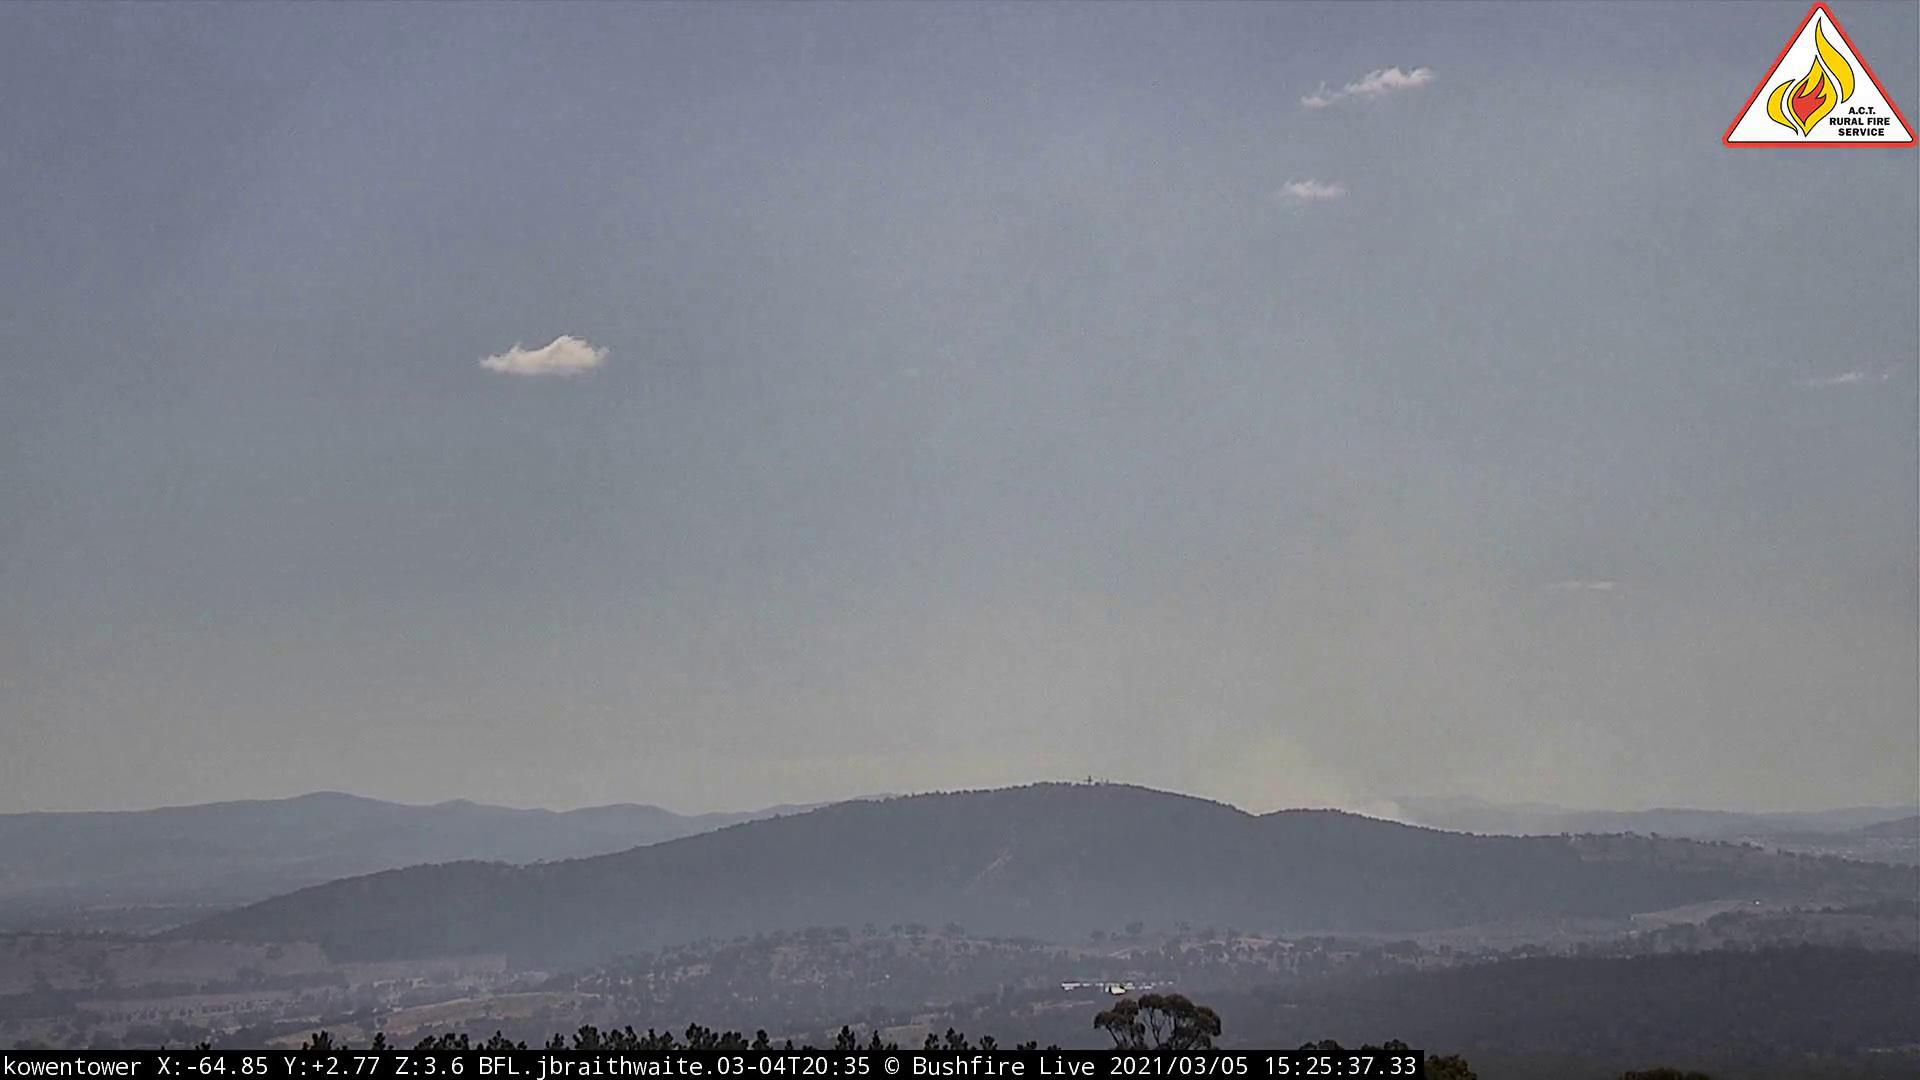instance_salient_object: (615, 434, 1404, 825)
